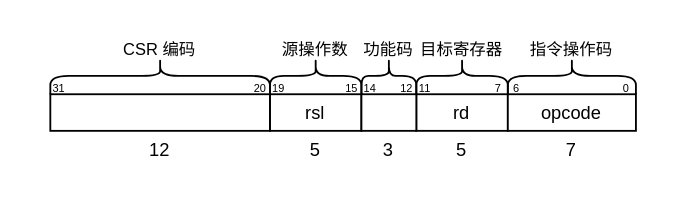
The diagram is 684 pixels wide and 198 high, and some of its shapes have lost their labels. Here are the shapes that lost their labels. From the top down, the centre of each, then its label:
point 159,111: csr
point 388,111: funct3
